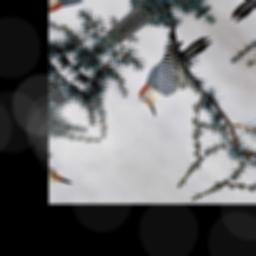Woodpecker: (122, 26, 231, 117)
